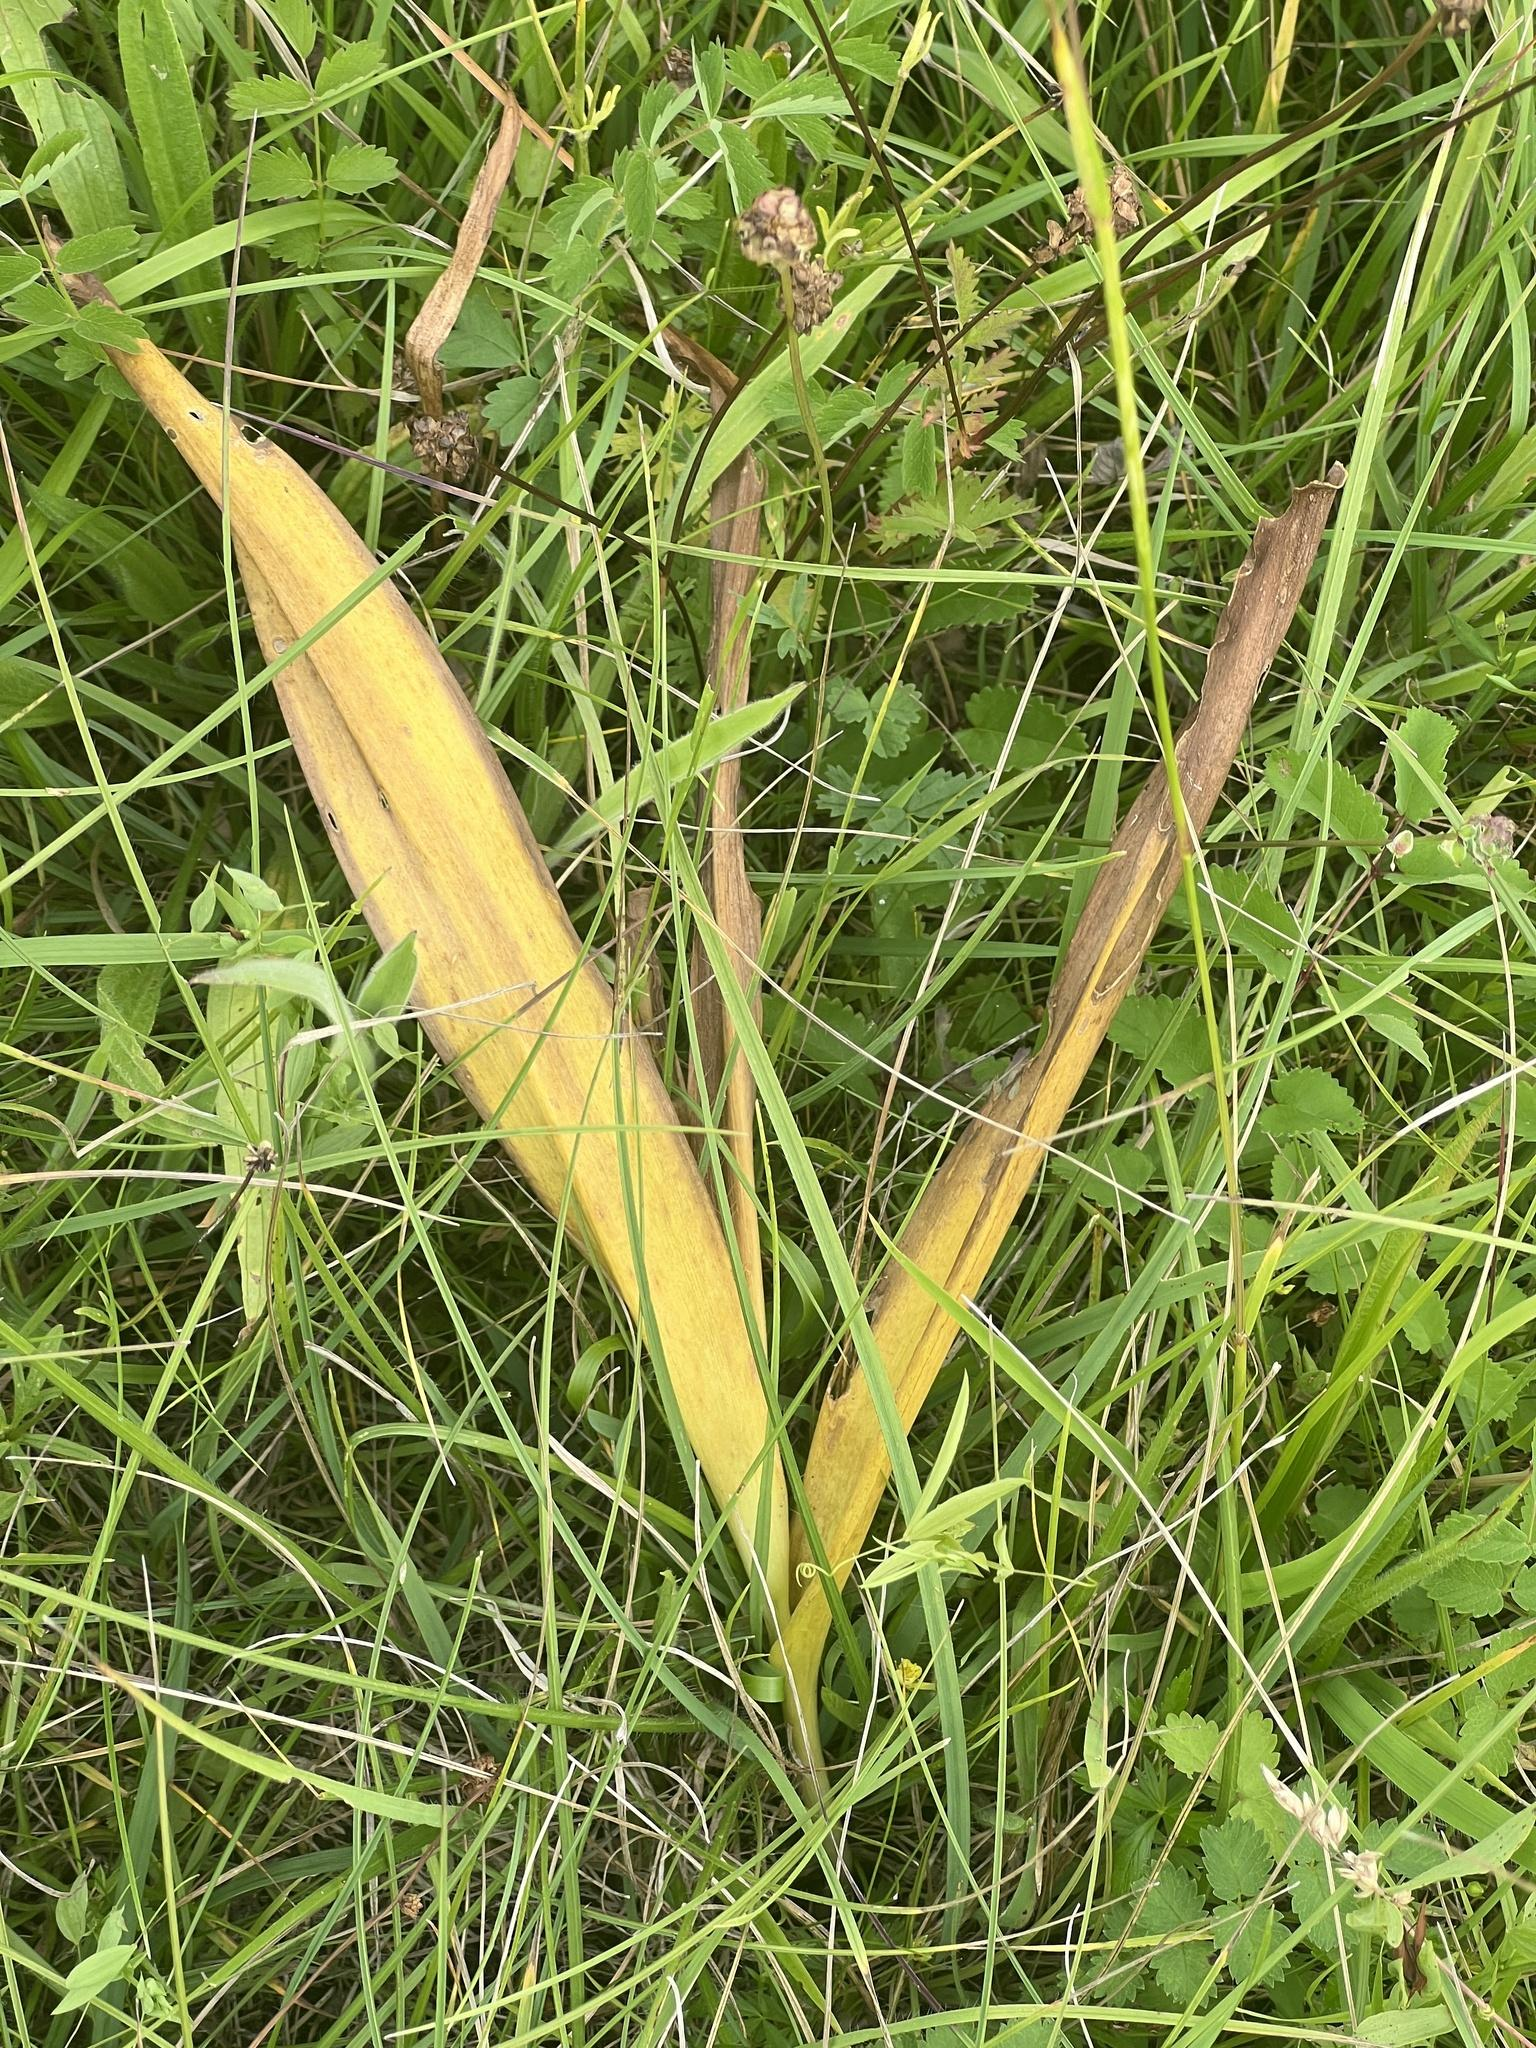Colchicum autumnale L: (65, 273, 1376, 1788)
